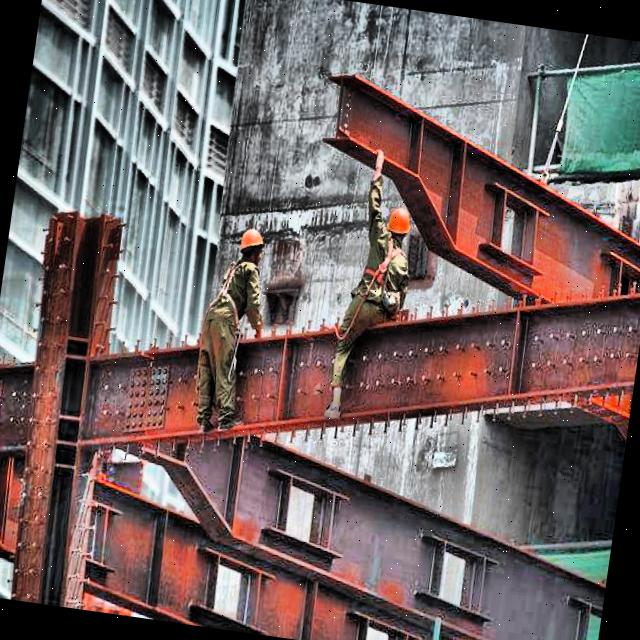helmet: (238, 228, 268, 268), (386, 208, 414, 246)
